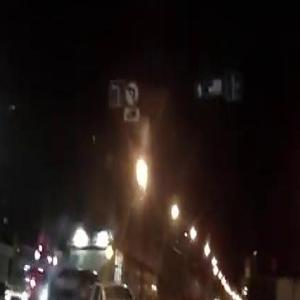negligible: (31, 262, 145, 300)
